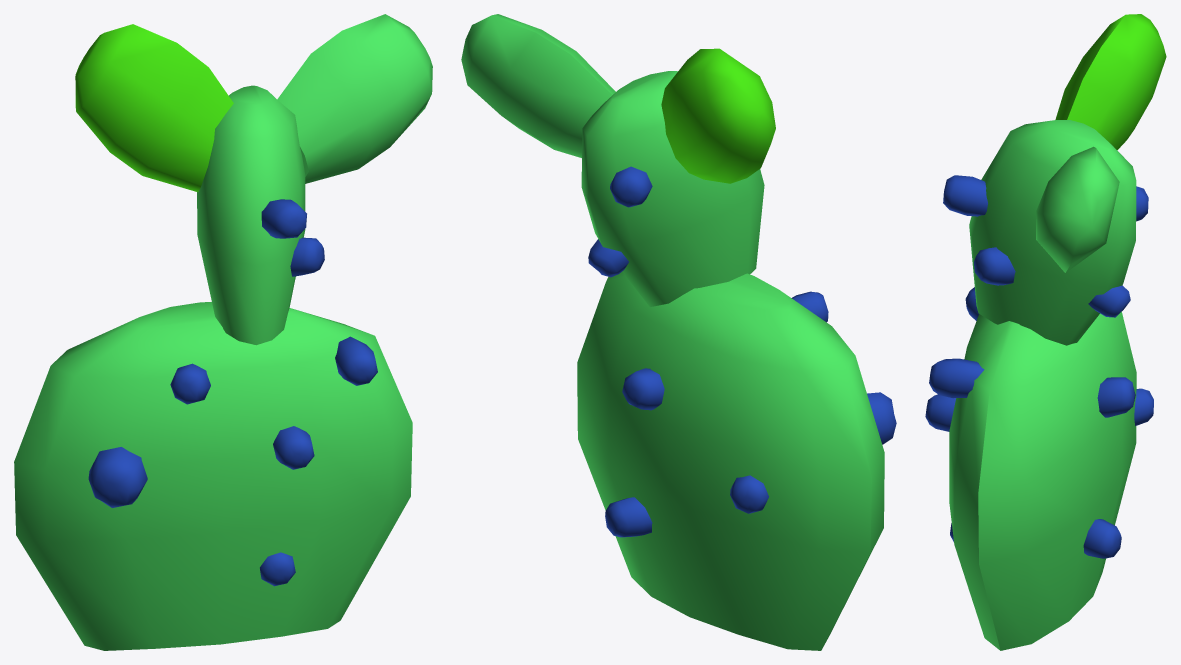
Rendered from smal_buble_cactus.fbx.
3 renders of one model, left to right at view 1: azimuth 30°, elevation 25°; view 2: azimuth 150°, elevation 25°; view 3: azimuth 270°, elevation 25°, orthographic. The views are drawn at different scales.
Parts seen in each view (by area): view 1: small_cactus_type02; view 2: small_cactus_type02; view 3: small_cactus_type02.
Boxes of the visible parts, box(x1,y1,x2,y2) form: small_cactus_type02: box(14, 14, 432, 650); small_cactus_type02: box(461, 14, 896, 650); small_cactus_type02: box(925, 14, 1166, 650).
Bounding box in the file's own units: 15.72 × 21.69 × 8.32.
